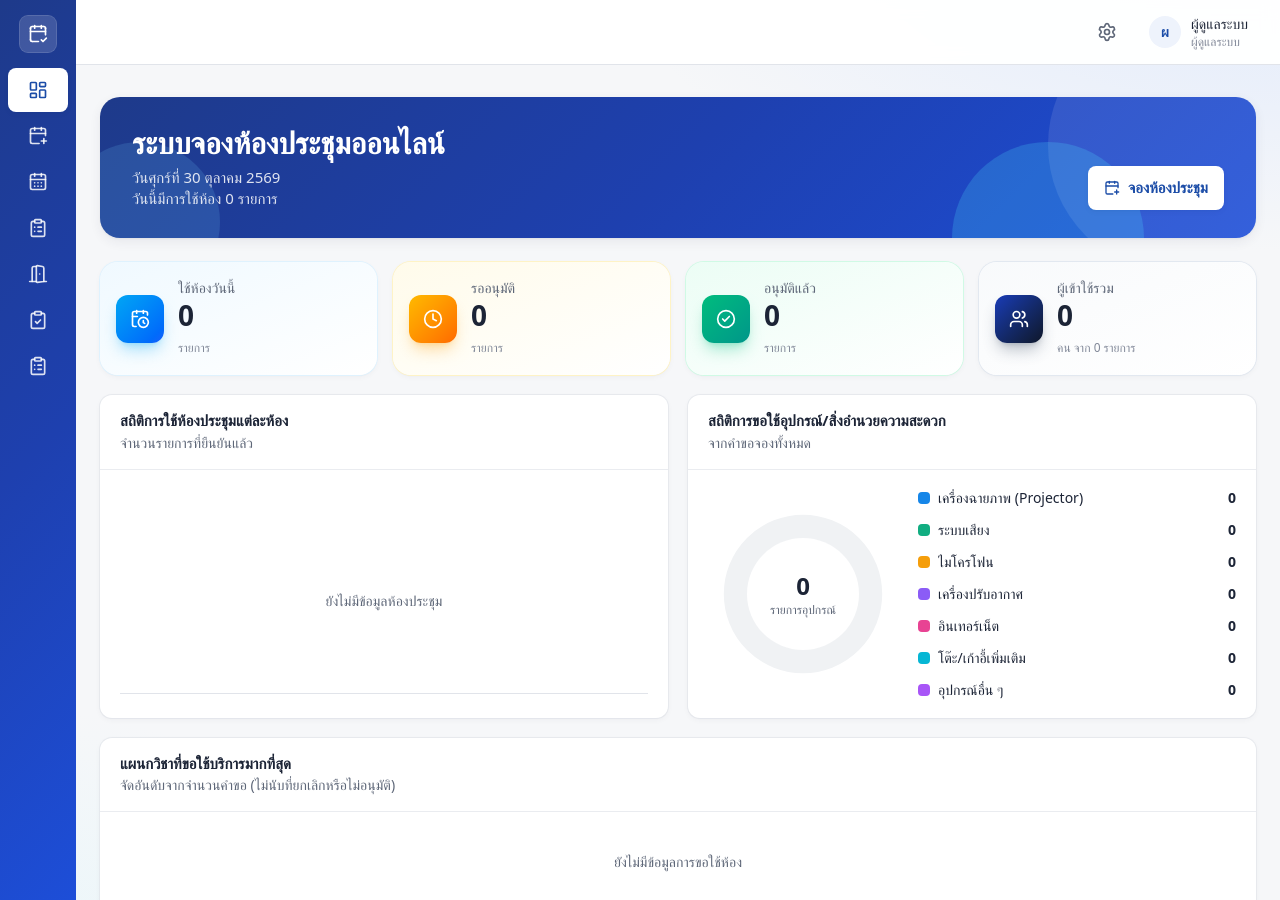
Test: เมนูและการเข้าถึงหน้าต่าง ๆ › รายการจองของฉัน แสดงเฉพาะของผู้ใช้คนนี้
The width and height of the screenshot is (1280, 900).
Click the link named "รายการจองของฉัน".
click(38, 228)  # box 8,206 -> 68,250
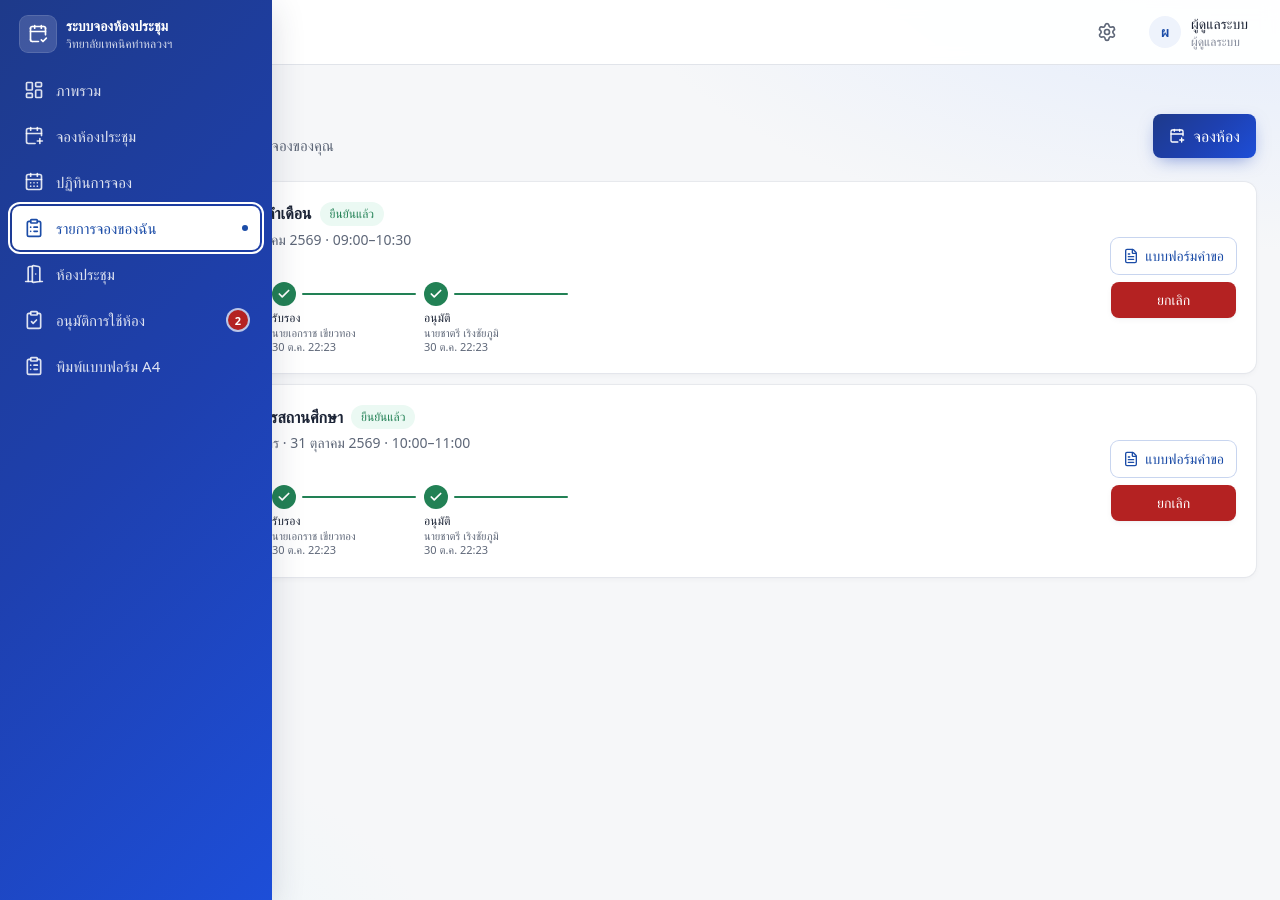
Expected: the heading "รายการจองของฉัน" is shown, 100,96 -> 252,129
Expected: the heading "ประชุมครูและบุคลากรประจำเดือน" is shown, 120,203 -> 312,224
